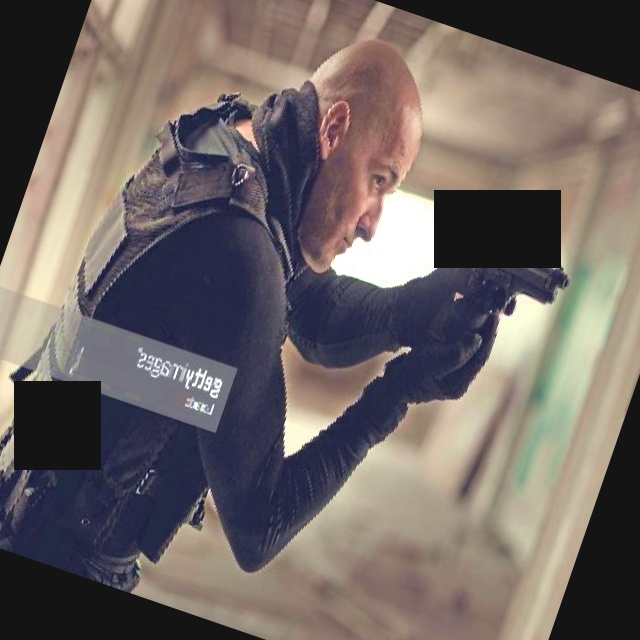gun: (436, 221, 585, 348)
